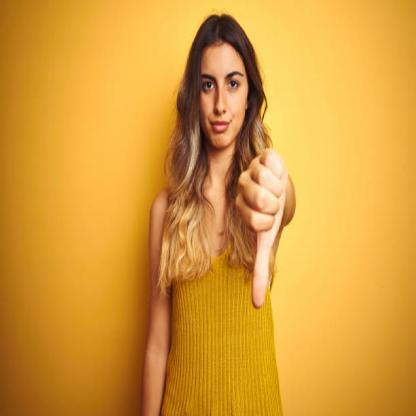thumb_down: (231, 144, 291, 311)
